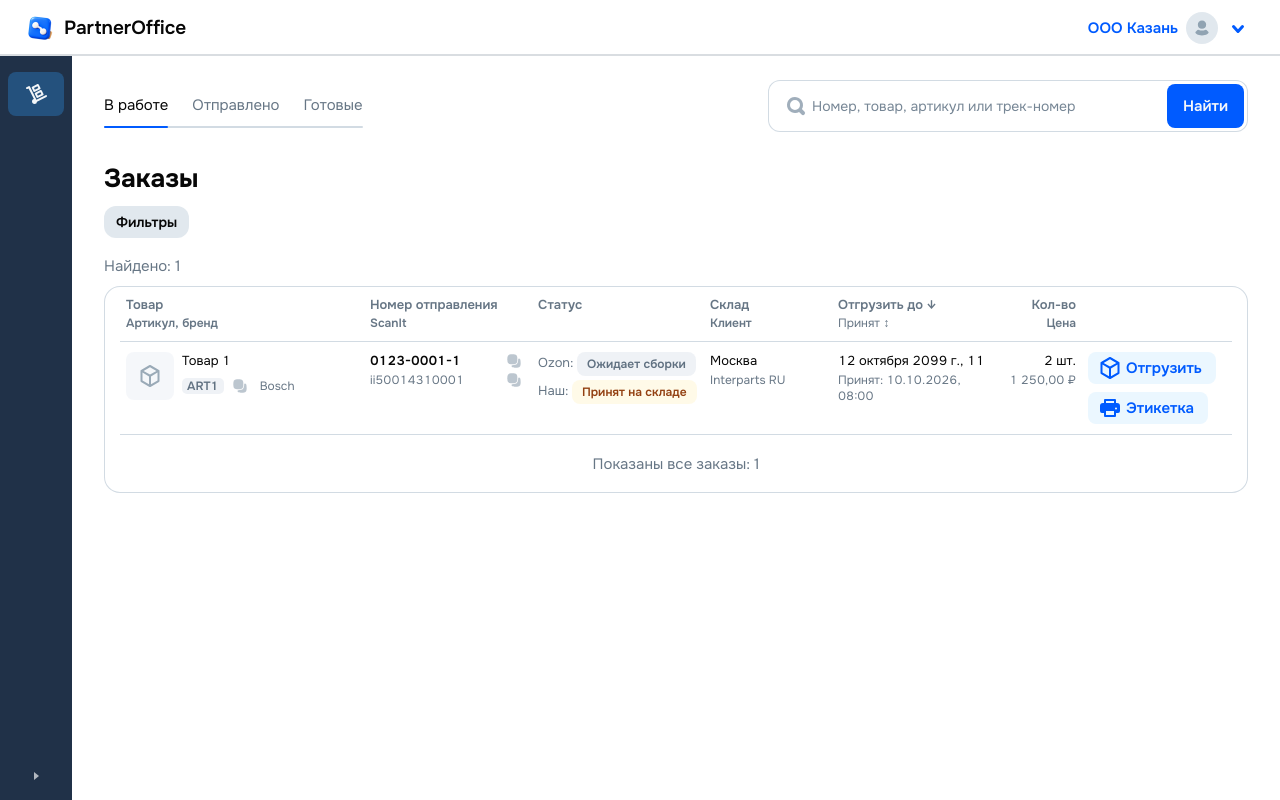
Test case: Статус Studio2: «Принят» → «Отгрузить» › «Отгрузить»: если Ozon просит данные экземпляров, сначала форма, затем сборка и статус
Click the button "Отгрузить". click: (1152, 368)
box: [1088,352,1216,384]
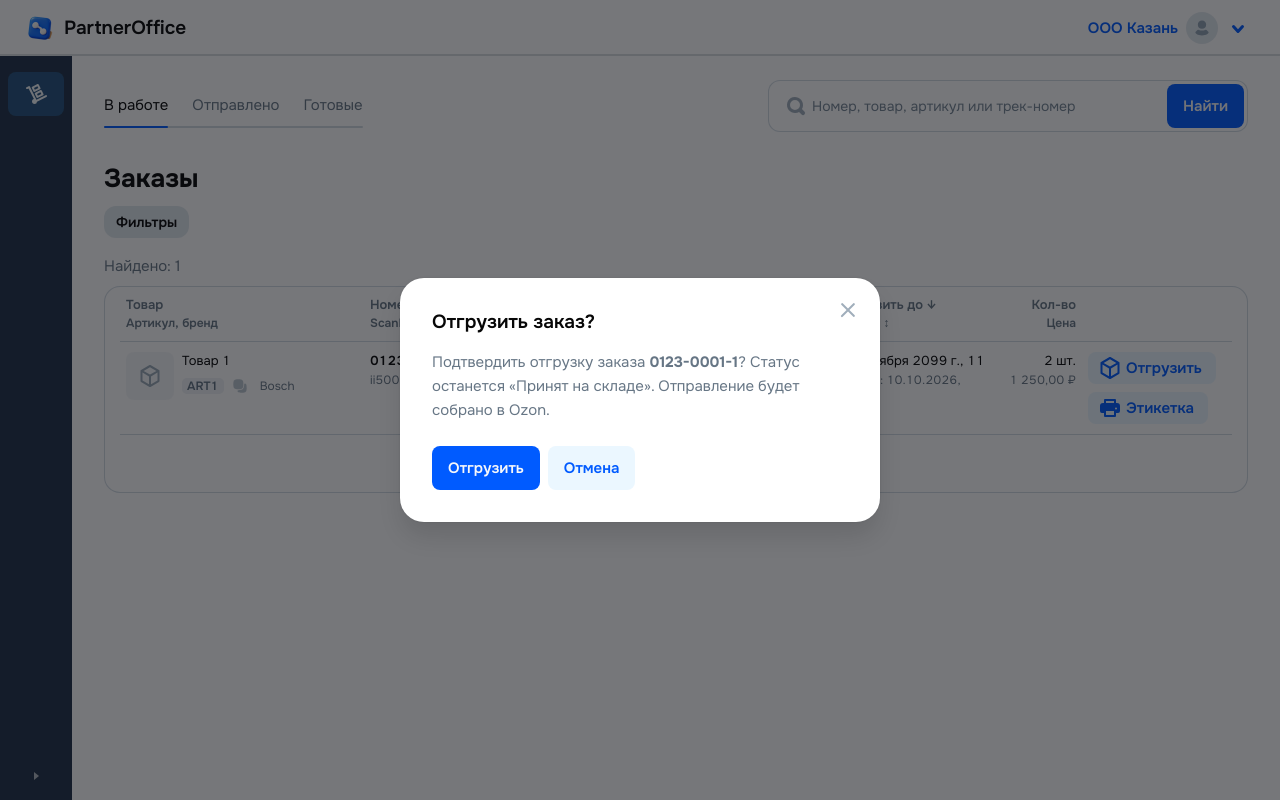
Click the button "Отгрузить". click: (486, 468)
box: [432,446,540,490]
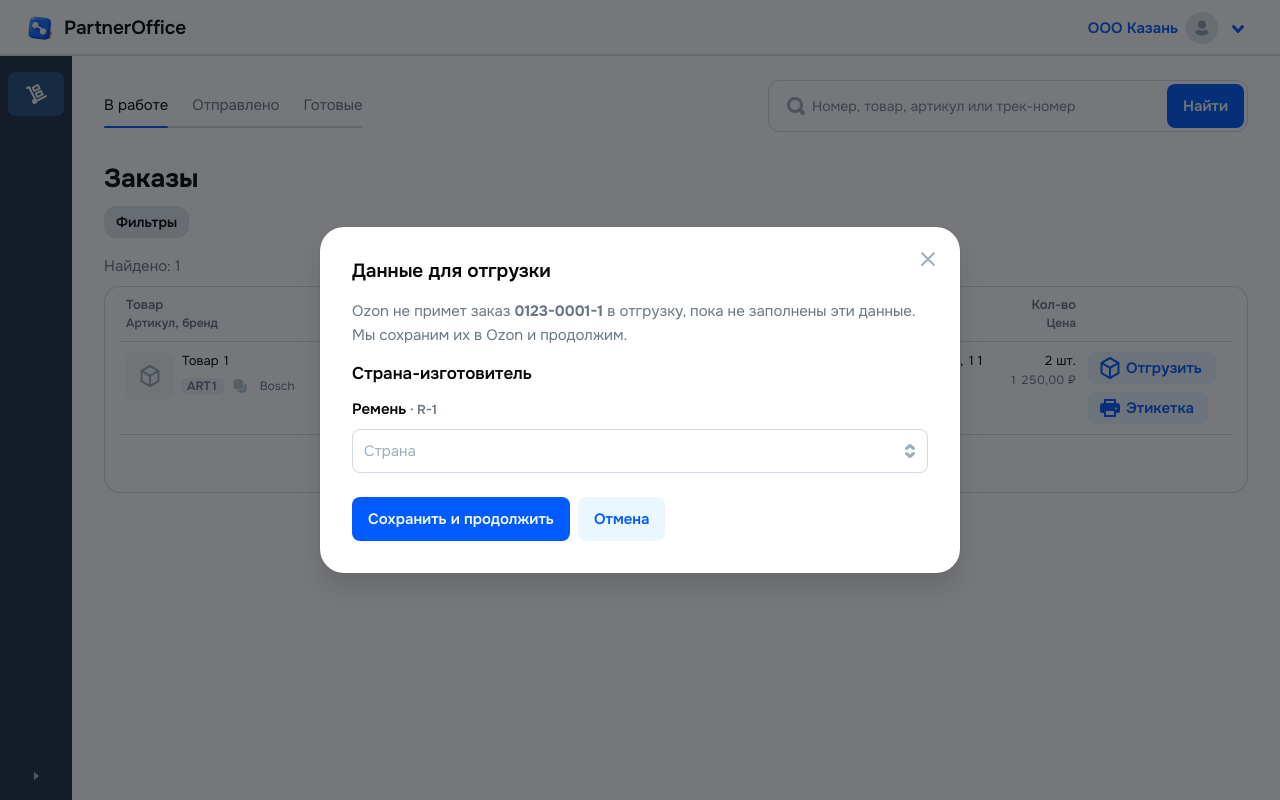
Check: the dialog "Данные для отгрузки" is shown, box [320,227,960,573]
